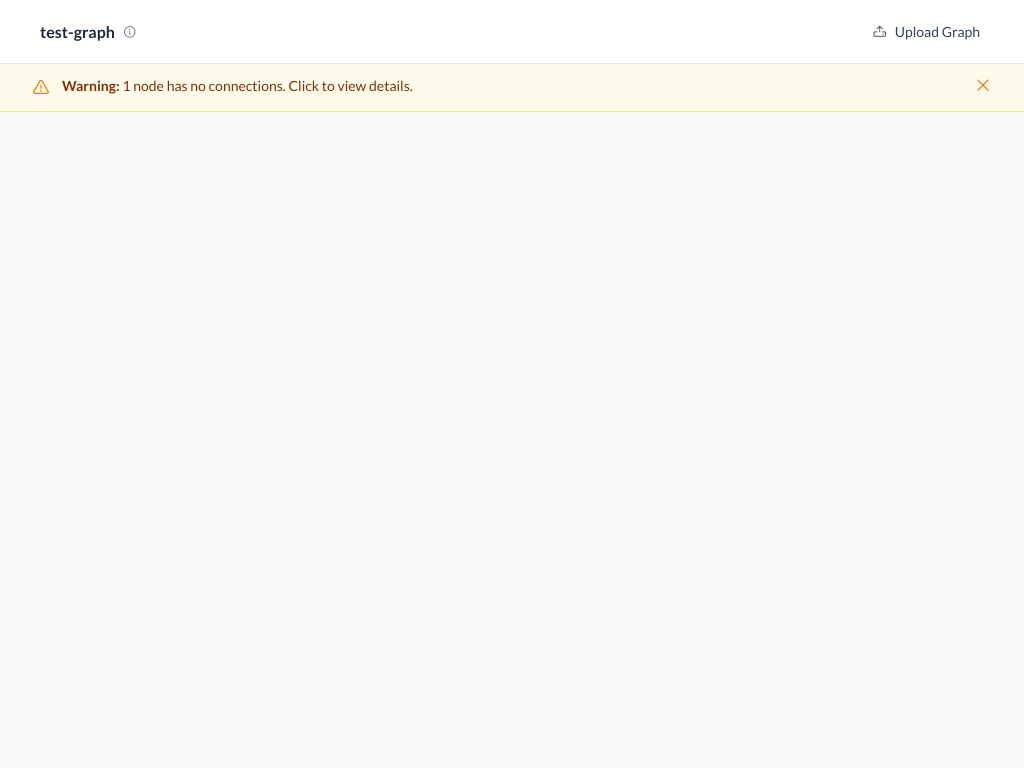
Test case: Header › schema modal trigger › closes modal when Escape pressed
The width and height of the screenshot is (1024, 768).
Click the button "test-graph": (88, 32) [32, 16, 145, 48]
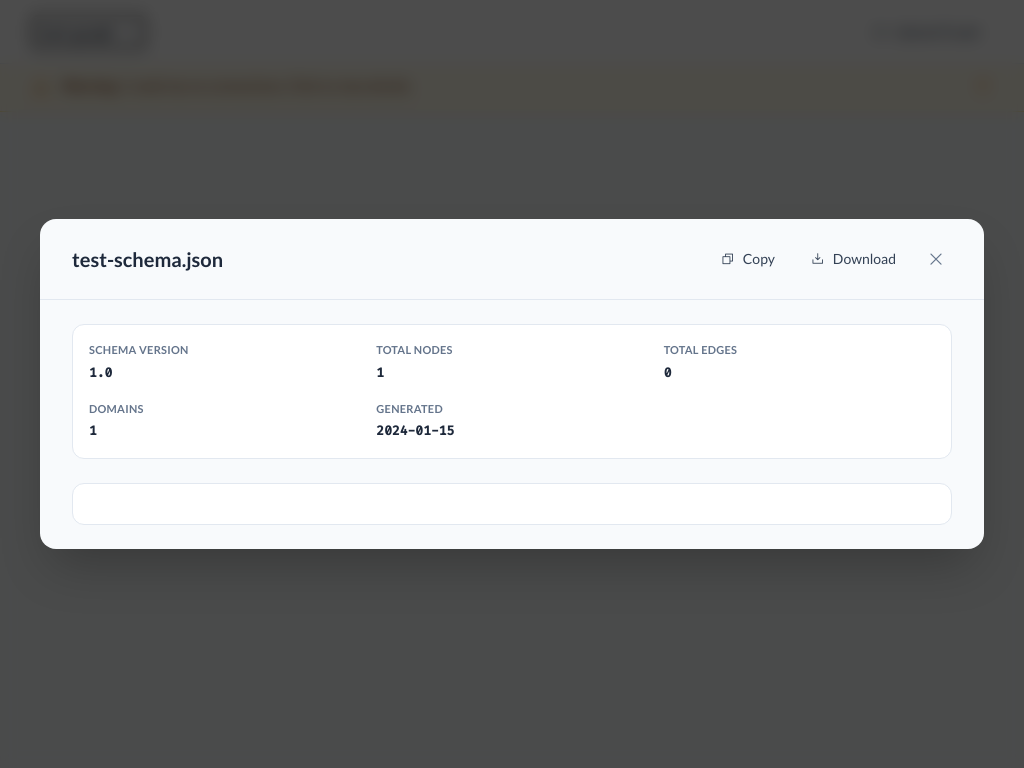
expect the dialog is shown: met
Press Escape
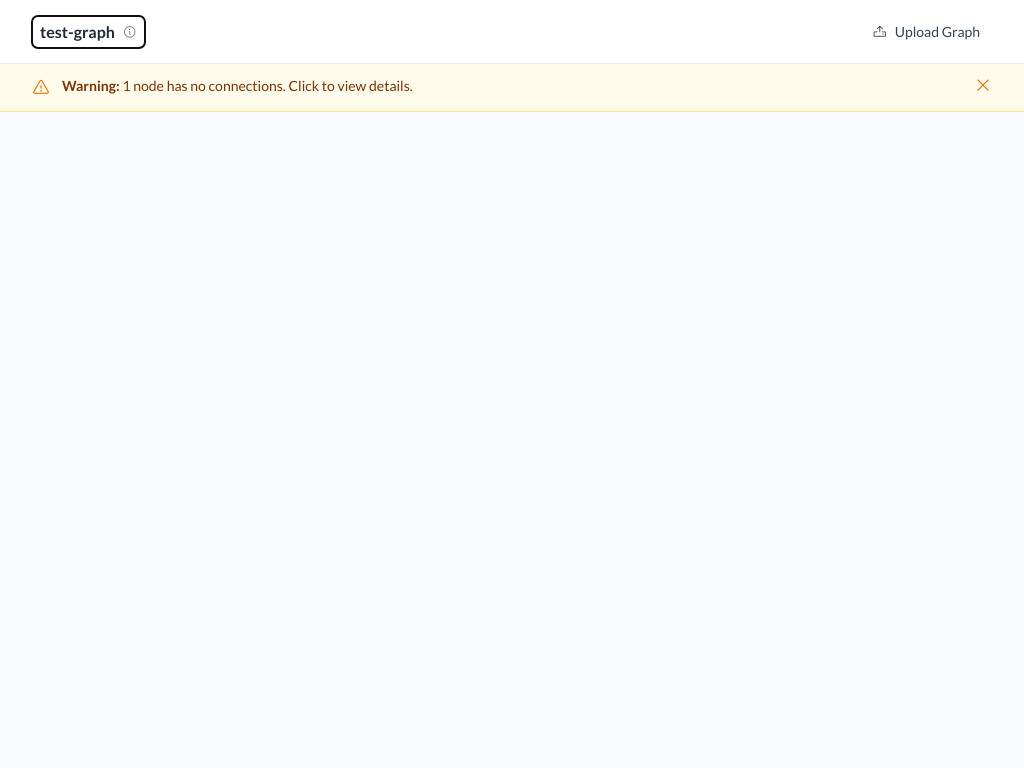
expect the dialog is gone: met
